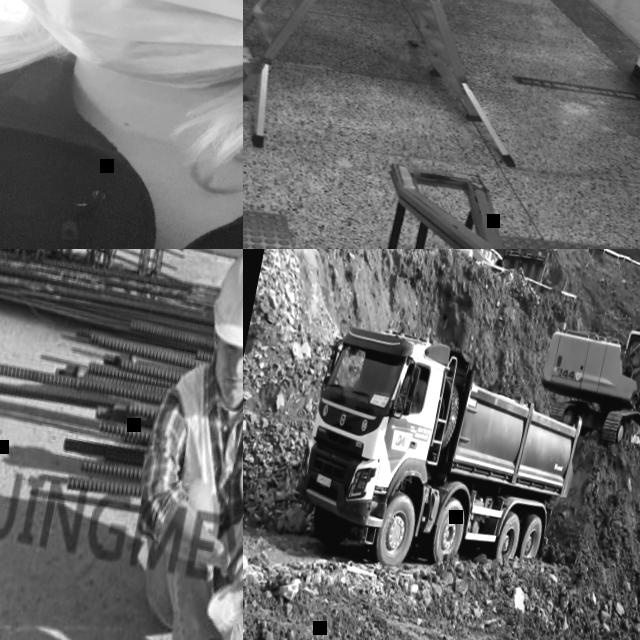Hardhat: (204, 249, 243, 360)
Mask: (3, 0, 243, 104)
NO-Mask: (212, 365, 243, 407)
NO-Safety Vest: (0, 33, 243, 249)
Person: (87, 249, 243, 640), (0, 0, 243, 249), (400, 375, 422, 410)
Safety Vest: (136, 349, 243, 593)
machinery: (286, 324, 591, 595), (523, 254, 640, 524)
